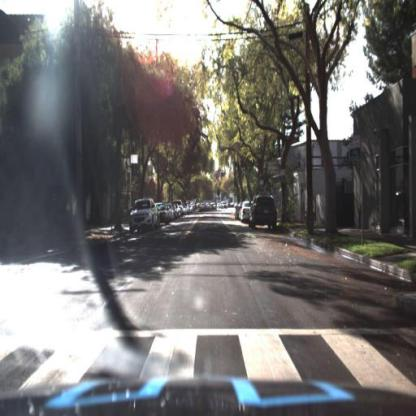car: (130, 197, 160, 235), (249, 195, 280, 231), (250, 194, 277, 226), (239, 201, 251, 224)
